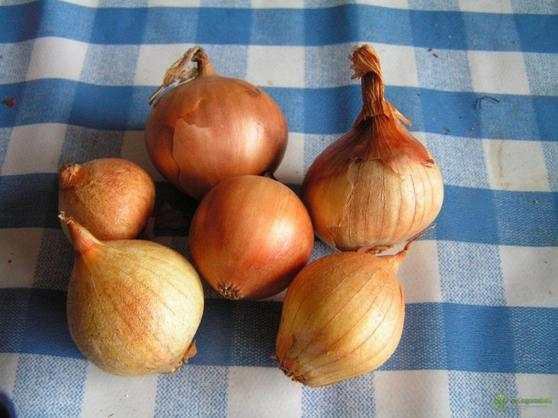onion: (65, 236, 205, 379), (147, 63, 287, 190), (305, 124, 450, 245), (281, 253, 405, 391), (186, 172, 314, 293)
